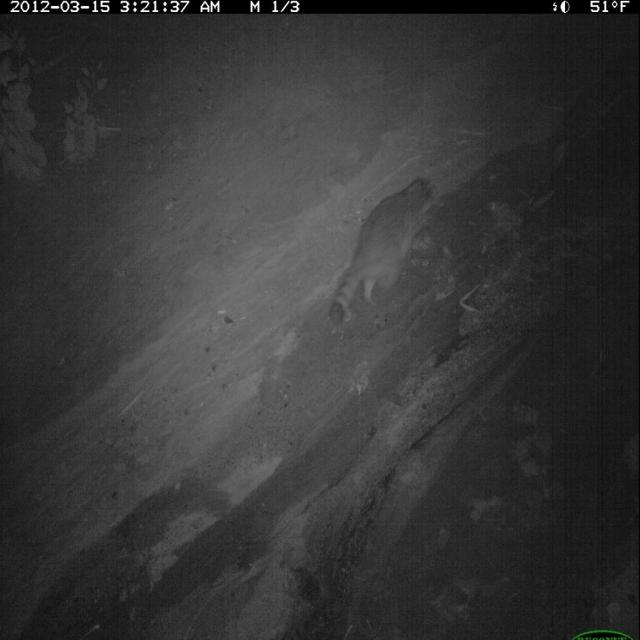raccoon: (325, 170, 438, 334)
